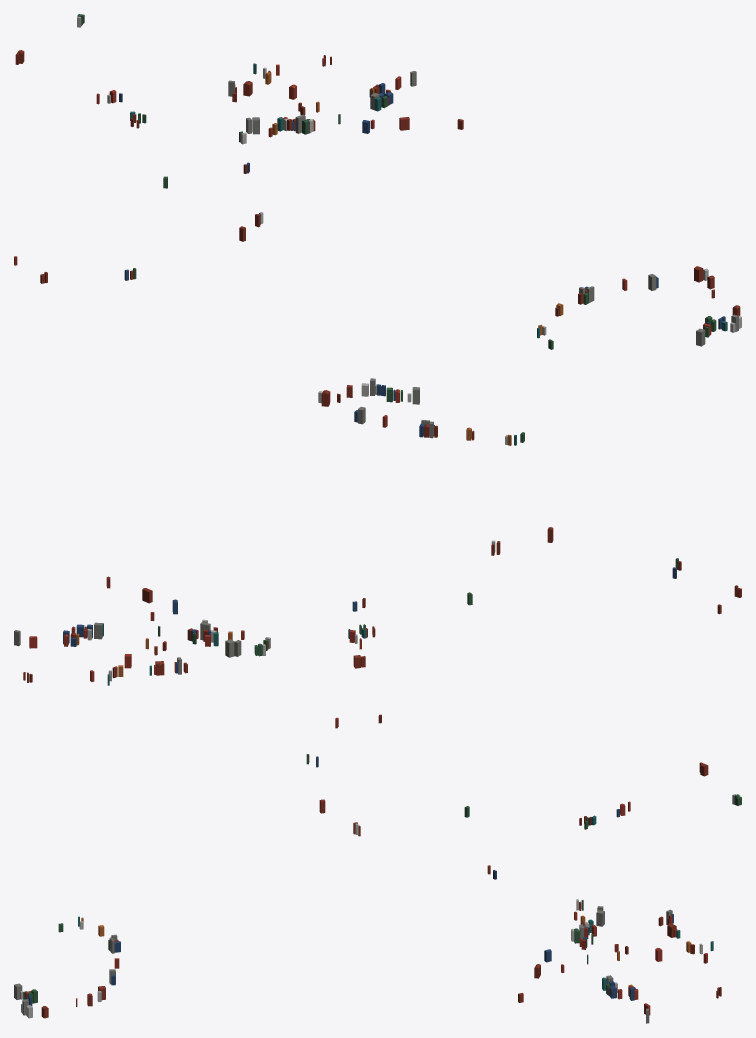
Rendered from near-15-27372-14876.1af03427.glb.
3 renders of one model, top to bottom at view 1: azimuth 30°, elevation 25°; view 2: azimuth 150°, elevation 25°; view 3: azimuth 270°, elevation 25°, orthographic. The views are drawn at different scales.
Bounding box in the file's own units: 939 × 173 × 1167.
